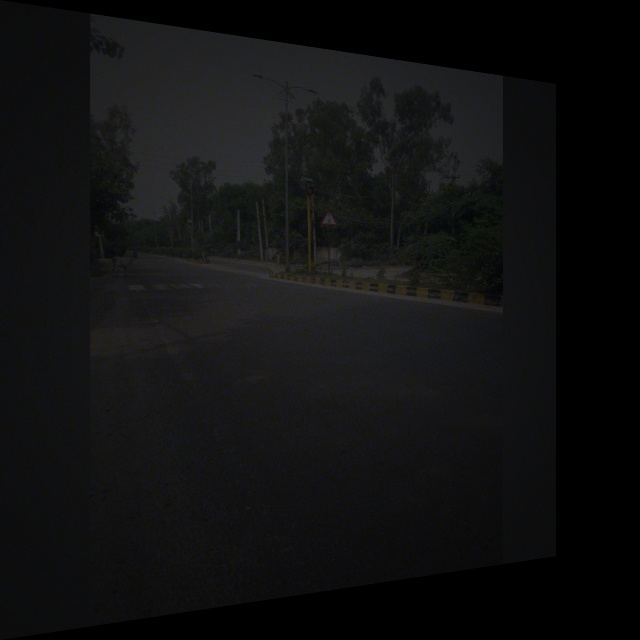Gap_in_Median: (319, 205, 339, 229)
